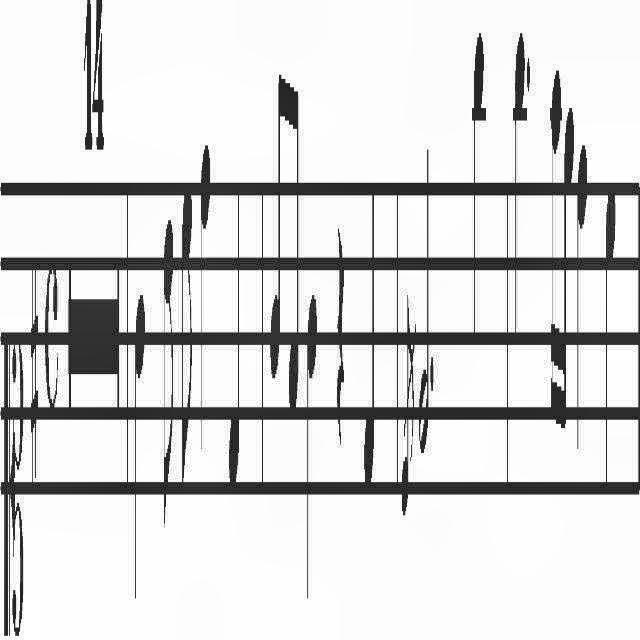Diez: (29, 245, 41, 520)
Eighth-note: (264, 24, 284, 414), (285, 58, 301, 426), (160, 203, 176, 533), (178, 165, 194, 495)
Half-note: (414, 143, 430, 464)
Quarter-note: (468, 9, 488, 378), (358, 164, 378, 508), (604, 132, 620, 548), (132, 236, 148, 634), (226, 172, 244, 524), (510, 3, 526, 373), (197, 126, 211, 482), (575, 141, 589, 457), (305, 271, 317, 637)
Quarter-rest: (336, 203, 346, 453)
Sixteenth-note: (543, 0, 561, 472), (564, 76, 576, 464)
